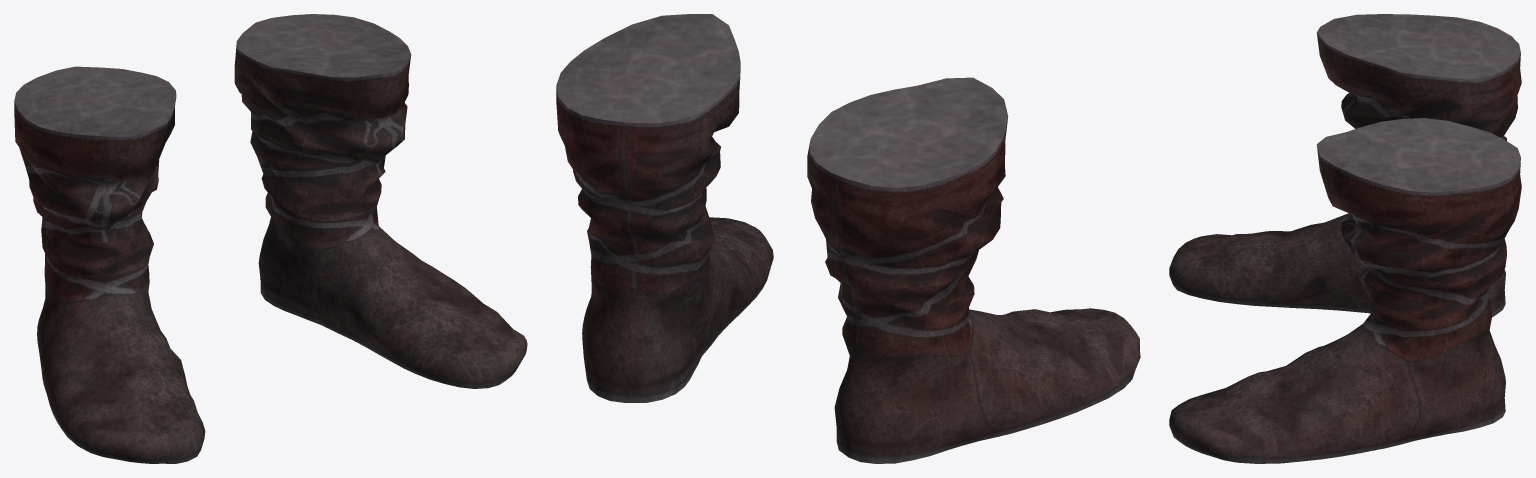
Rendered from sk_dwarf_dain_boots_light_a.fbx.
3 renders of one model, left to right at view 1: azimuth 30°, elevation 25°; view 2: azimuth 150°, elevation 25°; view 3: azimuth 270°, elevation 25°, orthographic. The views are drawn at different scales.
Visible parts, largest first — view 1: sk_dwarf_dain_boots_light_a; view 2: sk_dwarf_dain_boots_light_a; view 3: sk_dwarf_dain_boots_light_a.
Part boxes in pixels (box(x1,y1,x2,y2)): sk_dwarf_dain_boots_light_a: box(14, 14, 527, 463); sk_dwarf_dain_boots_light_a: box(556, 14, 1140, 463); sk_dwarf_dain_boots_light_a: box(1169, 14, 1521, 463).
Bounding box in the file's own units: 0.5366 × 0.3752 × 0.317.
1 material, 1 textured.
